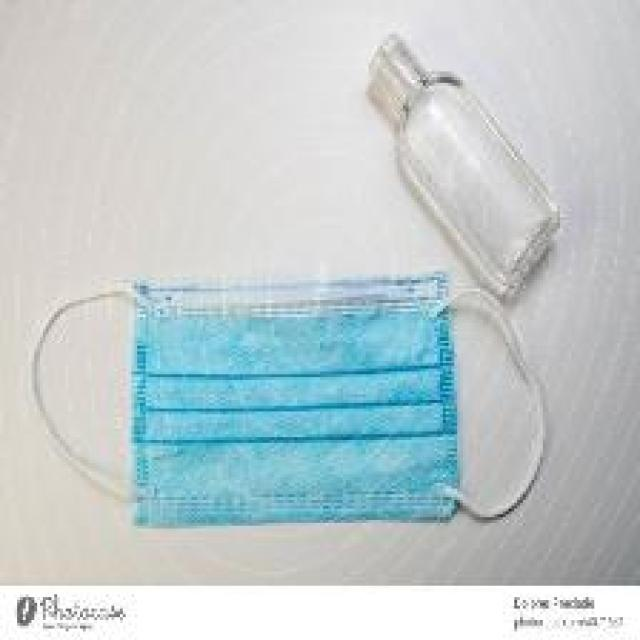Mask: (39, 255, 577, 530)
